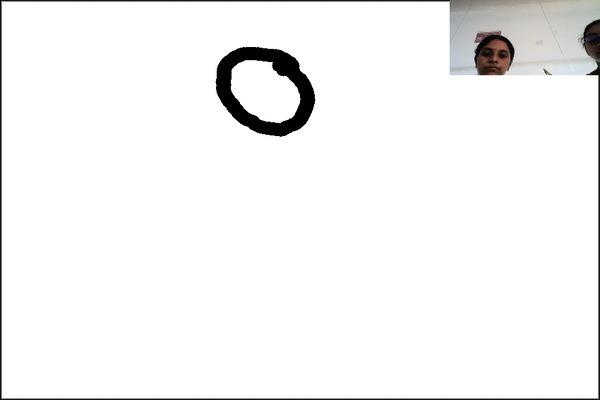O: (207, 36, 320, 149)
